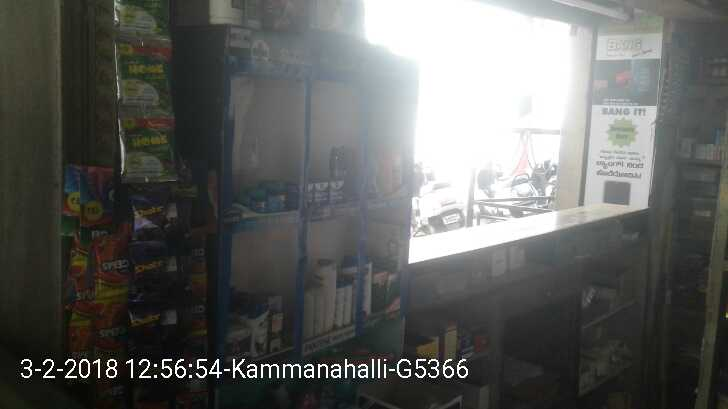beauty: (319, 260, 334, 335), (252, 301, 267, 358), (305, 288, 318, 339), (269, 311, 282, 352), (336, 279, 344, 328)
pharmacy: (265, 177, 286, 212), (246, 187, 264, 213), (318, 181, 334, 208), (329, 180, 346, 205)
